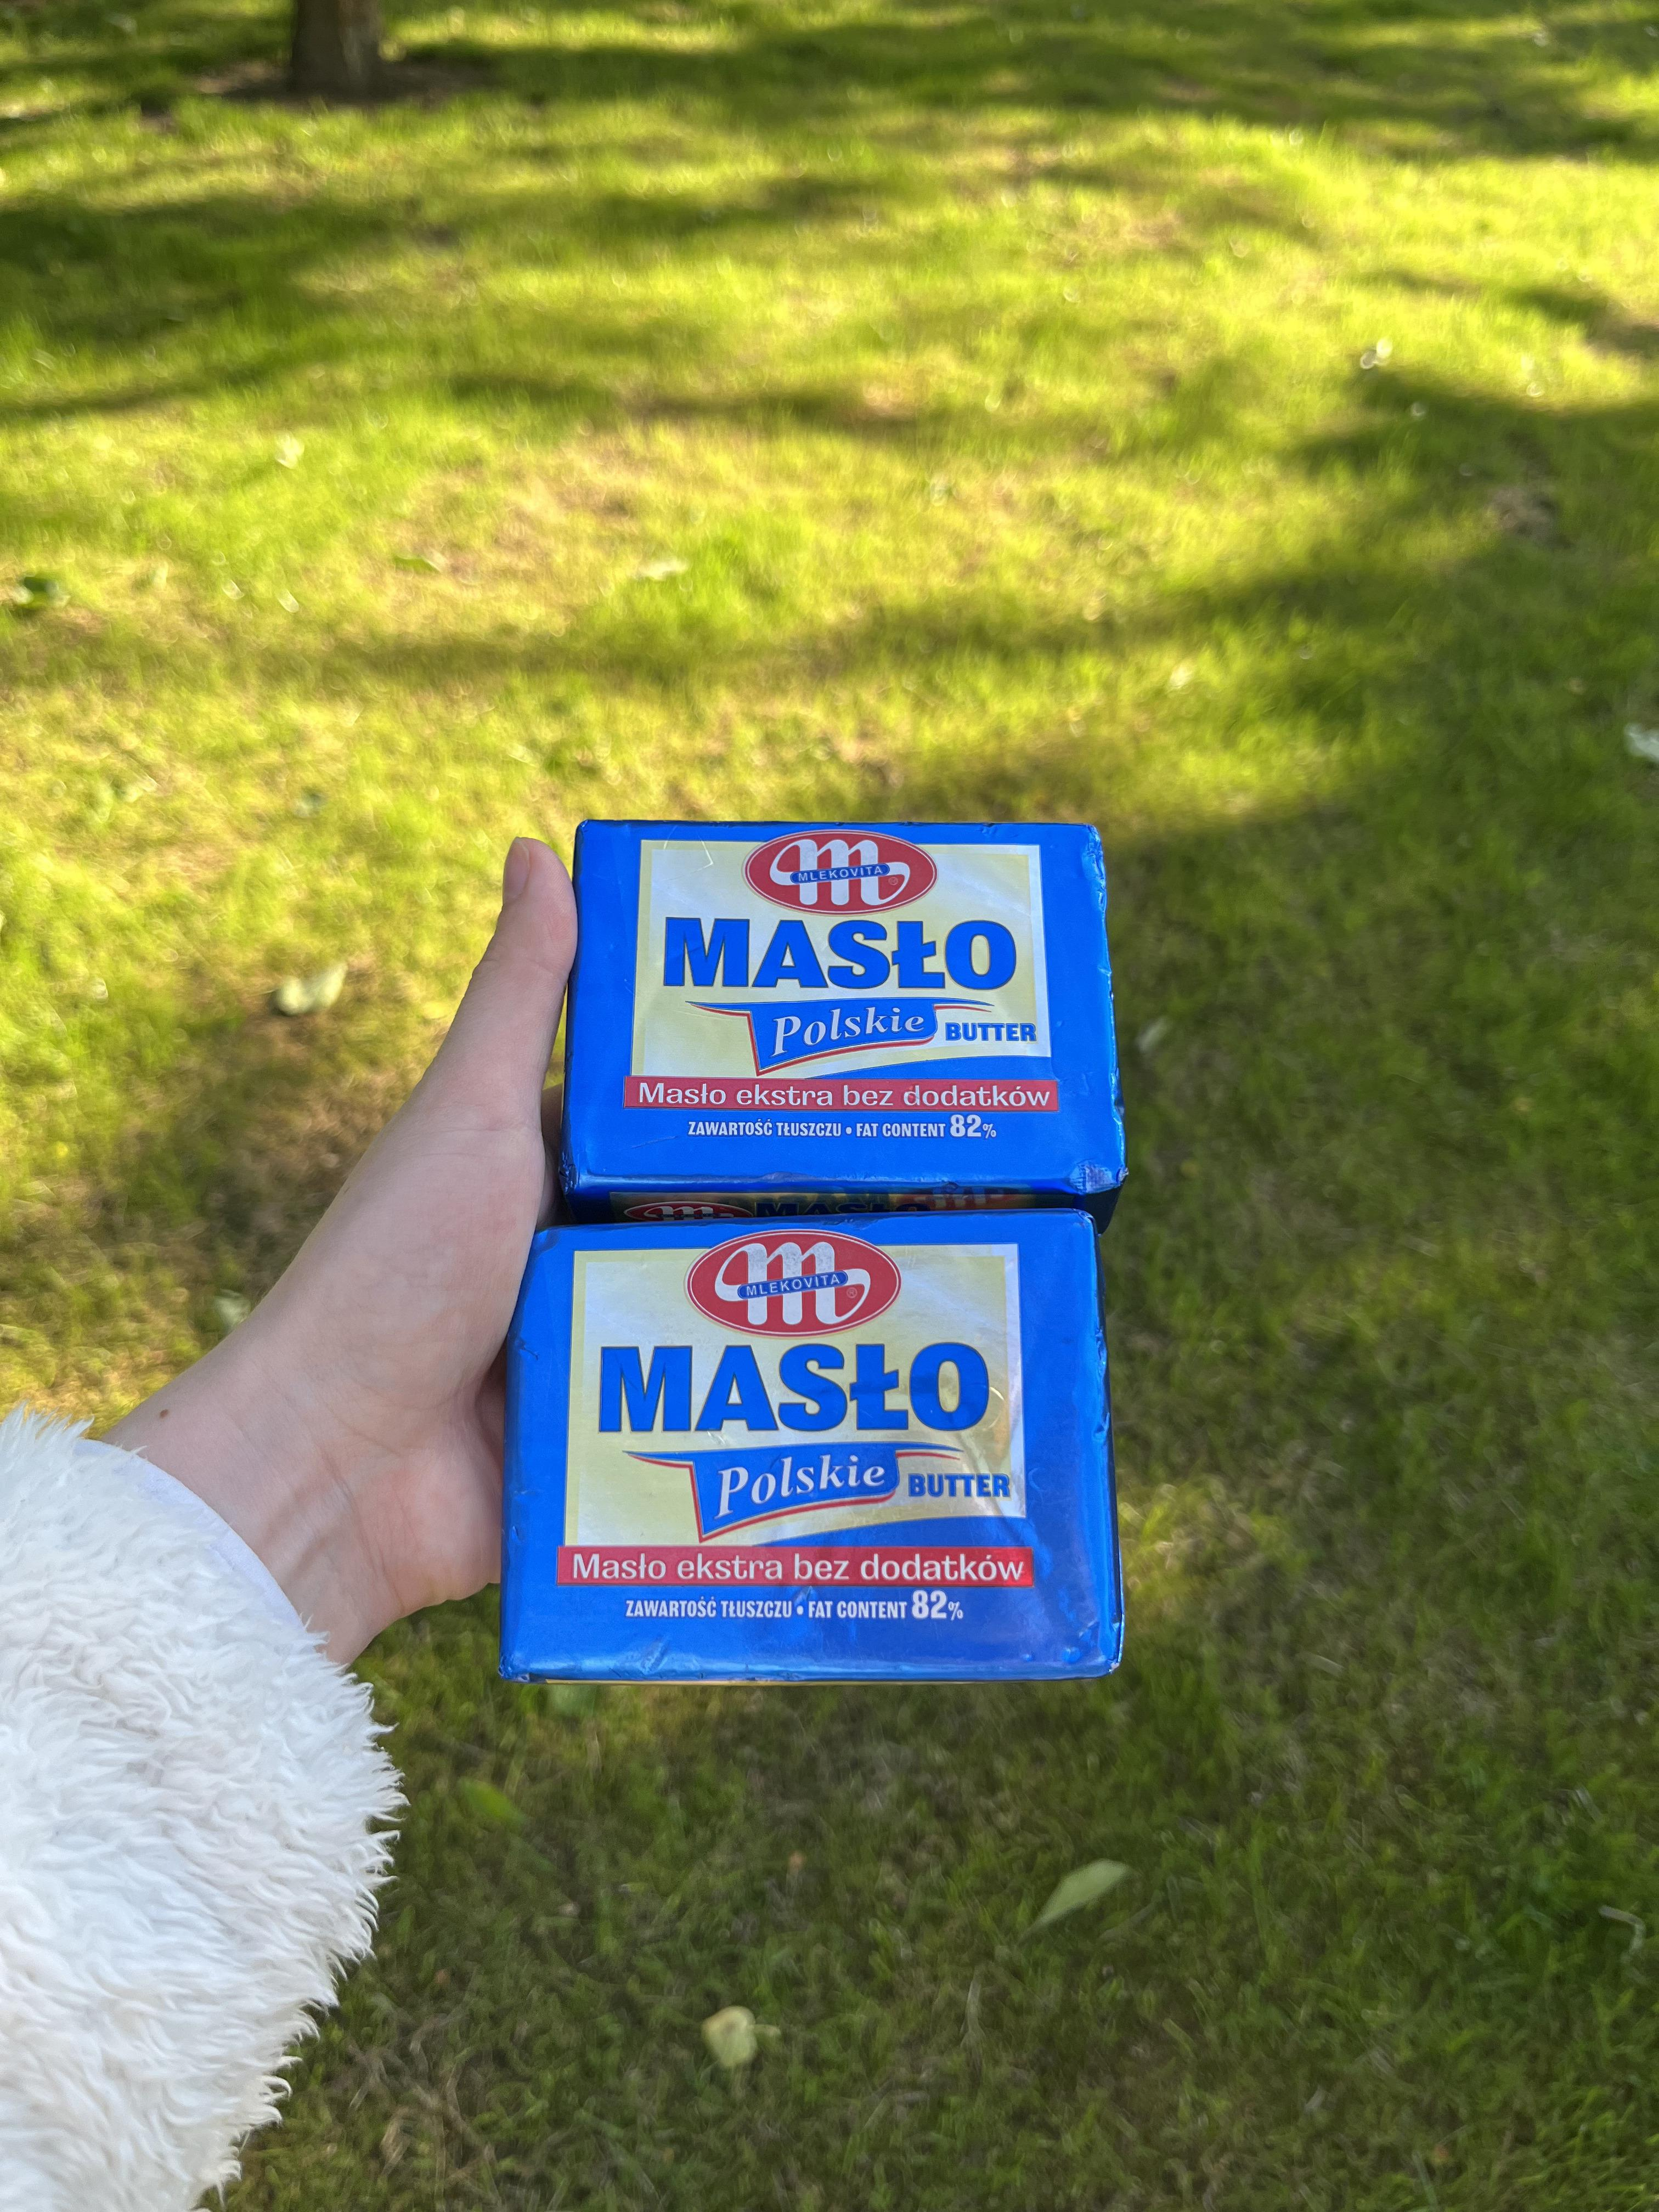Butter: (523, 1235, 1112, 1665), (572, 812, 1129, 1197)
